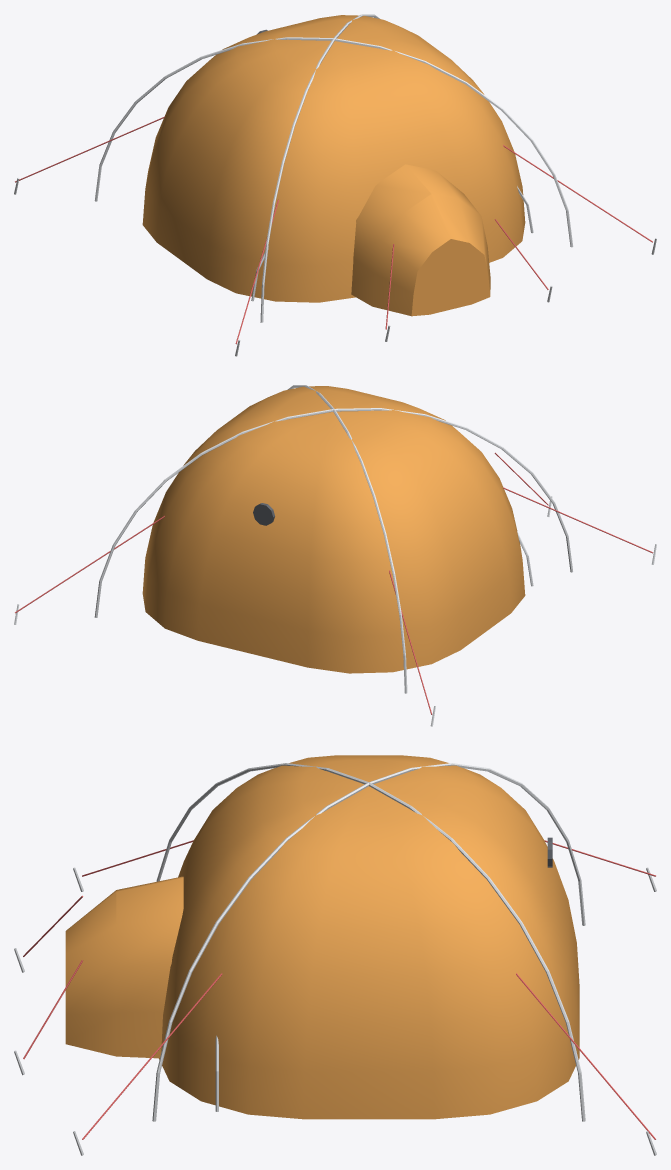
The model's file is mountaineering-and-summit-expedition-base-camp-dome-te-e93b01ea.glb.
3 views of the same model, one above another, from view 1: azimuth 30°, elevation 25°; view 2: azimuth 150°, elevation 25°; view 3: azimuth 270°, elevation 25° (orthographic). The views are drawn at different scales.
Visible parts, largest first — view 1: base-camp-dome-tent; view 2: base-camp-dome-tent; view 3: base-camp-dome-tent.
Boxes of the visible parts, x1,y1,x2,y2 form: base-camp-dome-tent: [14, 14, 656, 356]; base-camp-dome-tent: [14, 385, 656, 726]; base-camp-dome-tent: [14, 755, 656, 1155].
Bounding box in the file's own units: 3.72 × 1.58 × 3.82.
